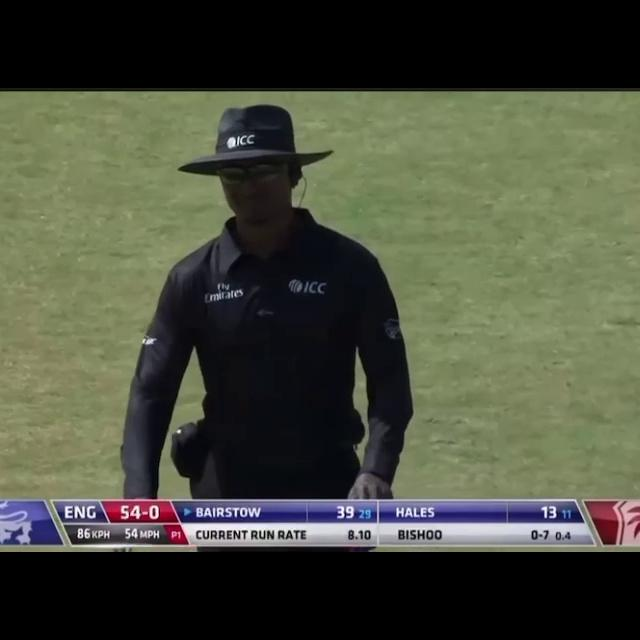umpire: (100, 88, 417, 502)
